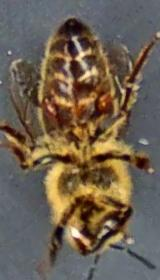varroa_mite: (82, 80, 120, 120), (33, 82, 69, 123)
